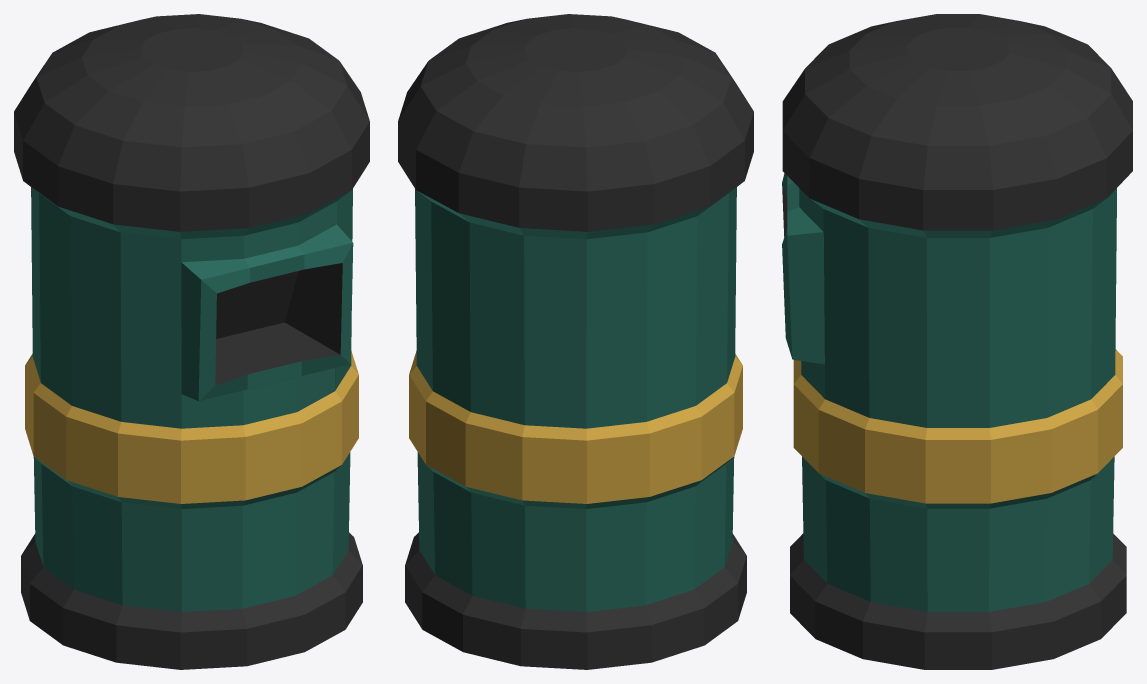
The model's file is cop_kutusu.glb.
The picture shows the model from 3 angles, left to right: view 1: azimuth 30°, elevation 25°; view 2: azimuth 150°, elevation 25°; view 3: azimuth 270°, elevation 25°; orthographic projection.
Parts seen in each view (by area): view 1: cop_kutusu; view 2: cop_kutusu; view 3: cop_kutusu.
Part boxes in pixels (x1,y1,x2,y2): cop_kutusu: (14, 14, 369, 669); cop_kutusu: (398, 14, 753, 669); cop_kutusu: (782, 14, 1132, 669).
Size of the model in its own units: 0.55 by 0.95 by 0.55.
